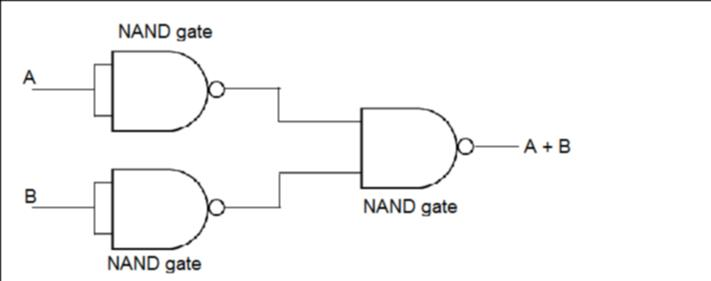nand: (354, 102, 478, 193), (106, 45, 228, 136), (105, 164, 228, 252)
